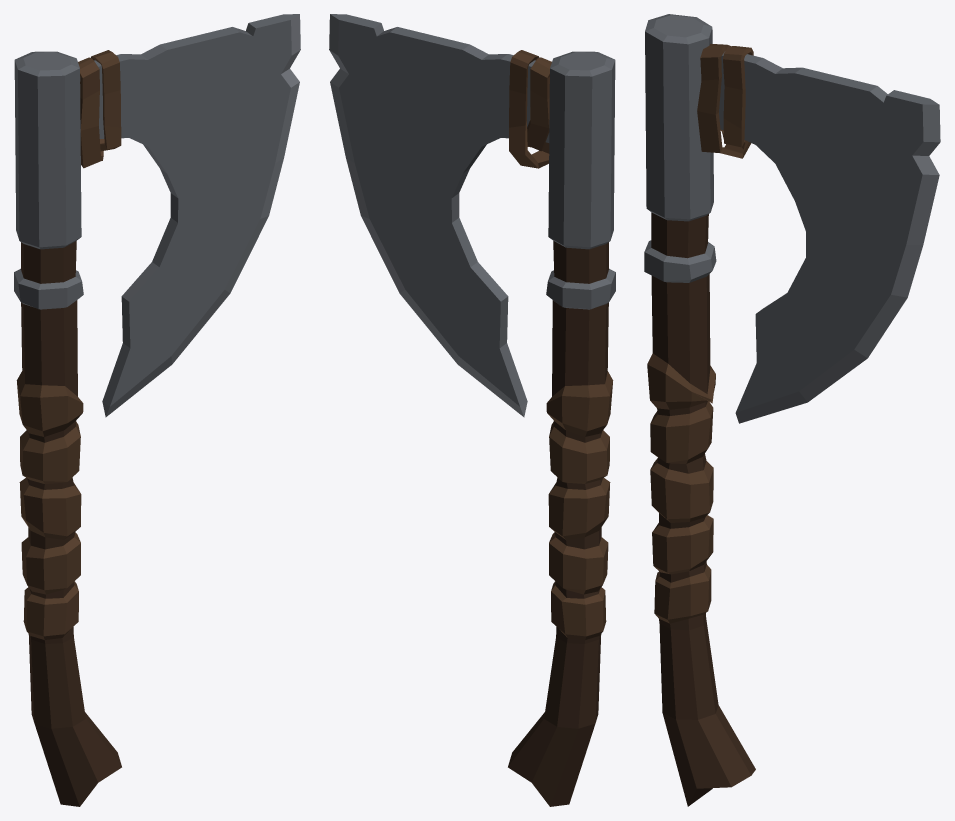
File: thrown.glb
The picture shows the model from 3 angles, left to right: view 1: azimuth 30°, elevation 25°; view 2: azimuth 150°, elevation 25°; view 3: azimuth 330°, elevation 25°; orthographic projection. The views are drawn at different scales.
Visible parts, largest first — view 1: Axe_small; view 2: Axe_small; view 3: Axe_small.
Part boxes in pixels (left/top/right/bottom): Axe_small: left=14, top=14, right=300, bottom=806; Axe_small: left=329, top=14, right=615, bottom=806; Axe_small: left=644, top=14, right=940, bottom=806.
Size of the model in its own units: 0.198 by 0.5 by 0.042.
